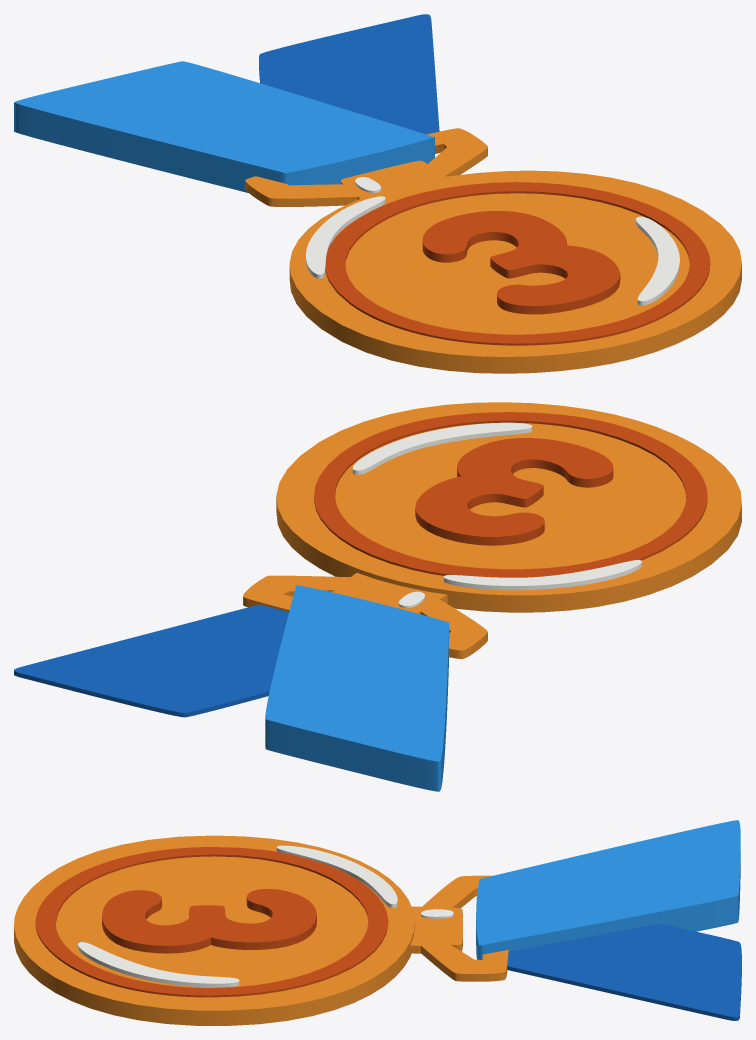
File: emoji_u1f949.glb
3 renders of one model, top to bottom at view 1: azimuth 30°, elevation 25°; view 2: azimuth 150°, elevation 25°; view 3: azimuth 270°, elevation 25°, orthographic. The views are drawn at different scales.
Visible parts, largest first — view 1: emoji_u1f949; view 2: emoji_u1f949; view 3: emoji_u1f949.
Boxes of the visible parts, <box> form: emoji_u1f949: <box>14,14,741,373</box>; emoji_u1f949: <box>14,402,741,791</box>; emoji_u1f949: <box>14,820,741,1025</box>.
Size of the model in its own units: 0.0207 by 0.0016 by 0.0344.
